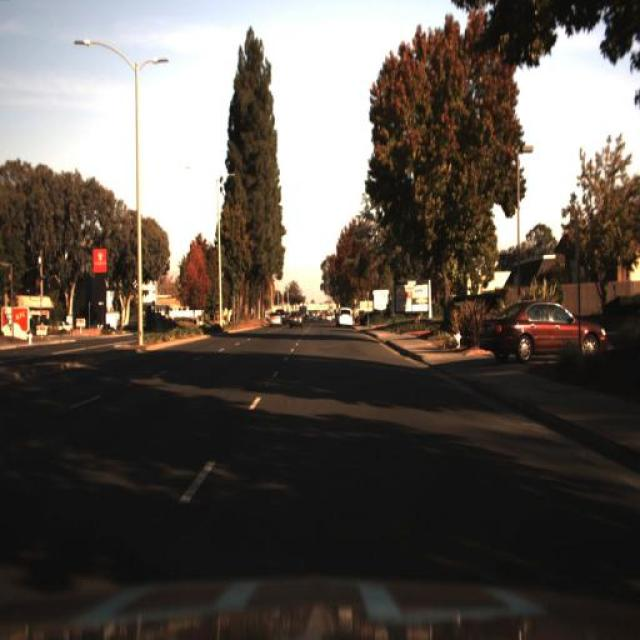car: (473, 286, 611, 374), (336, 304, 356, 332), (266, 304, 286, 328), (288, 303, 304, 331)
